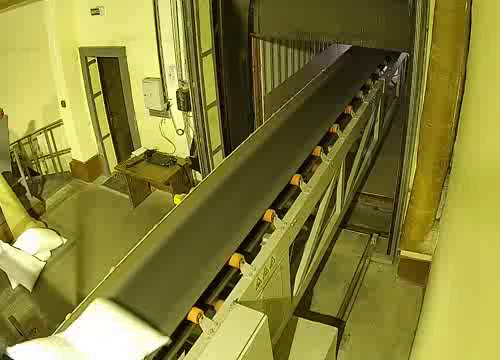bag: (5, 298, 174, 360)
